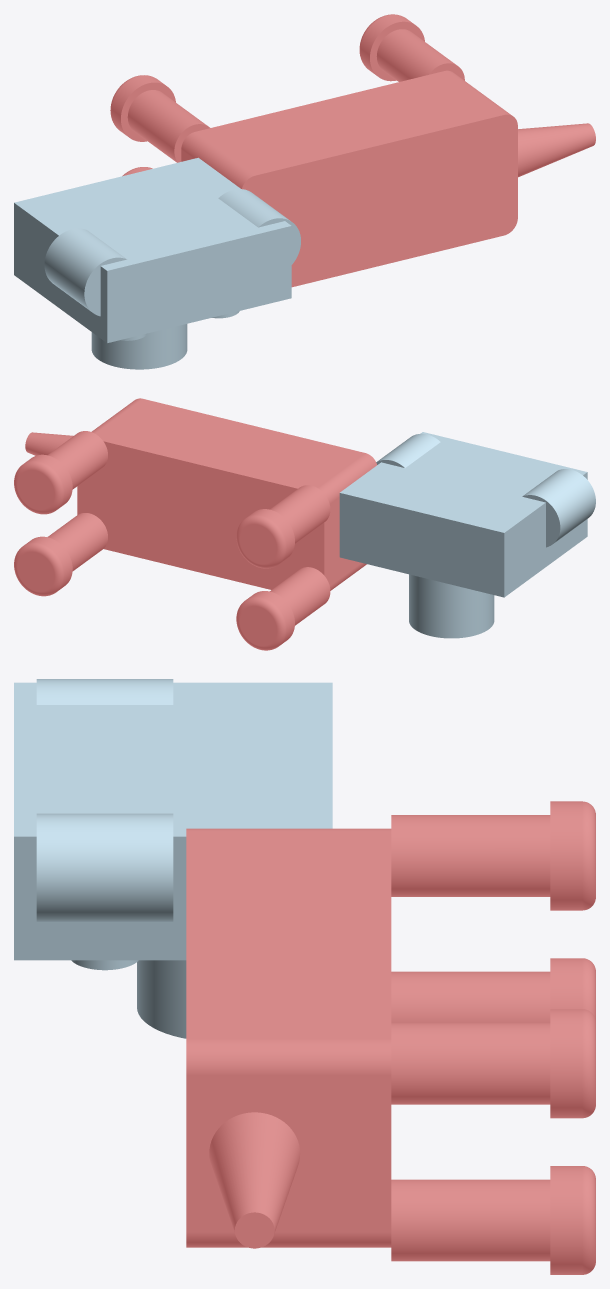
The model's file is JustinBach.gltf.
3 renders of one model, top to bottom at view 1: azimuth 30°, elevation 25°; view 2: azimuth 150°, elevation 25°; view 3: azimuth 270°, elevation 25°, orthographic. The views are drawn at different scales.
Parts seen in each view (by area): view 1: mesh9_mesh_8, mesh9_mesh_5, mesh22_mesh_16, mesh22_mesh_5, mesh22_mesh_12, mesh22_mesh_13, mesh43_mesh_1, mesh52_mesh_1, mesh22_mesh_2, mesh9_mesh_2, mesh9_mesh_6, mesh22_mesh_18 (+8 smaller); view 2: mesh9_mesh_9, mesh22_mesh_16, mesh9_mesh_5, mesh22_mesh_4, mesh22_mesh_12, mesh22_mesh_2, mesh22_mesh_13, mesh43_mesh_1, mesh61_mesh_1, mesh52_mesh_1, mesh0_mesh_1, mesh9_mesh_7 (+21 smaller); view 3: mesh9_mesh_5, mesh22_mesh_16, mesh9_mesh_3, mesh22_mesh_18, mesh22_mesh_17, mesh0_mesh_1, mesh43_mesh_1, mesh52_mesh_1, mesh61_mesh_1, mesh9_mesh_4, mesh9_mesh_2, mesh0_mesh_2 (+17 smaller).
Part boxes in pixels (x1,y1,x2,y2): mesh9_mesh_8: (242,114,517,287); mesh9_mesh_5: (195,71,503,175); mesh22_mesh_16: (14,157,291,270); mesh22_mesh_5: (107,226,291,342); mesh22_mesh_12: (14,203,107,342); mesh22_mesh_13: (44,228,126,311); mesh43_mesh_1: (127,90,207,150); mesh52_mesh_1: (377,29,455,79); mesh22_mesh_2: (91,329,163,369); mesh9_mesh_2: (518,123,595,164); mesh9_mesh_6: (181,132,254,188); mesh22_mesh_18: (218,189,289,227); mesh9_mesh_9: (77,441,324,589); mesh22_mesh_16: (340,432,586,532); mesh9_mesh_5: (95,399,364,488); mesh22_mesh_4: (339,493,504,597); mesh22_mesh_12: (504,472,587,597); mesh22_mesh_2: (430,579,494,638); mesh22_mesh_13: (522,469,595,543); mesh43_mesh_1: (270,485,330,535); mesh61_mesh_1: (270,567,330,617); mesh52_mesh_1: (48,431,107,481); mesh0_mesh_1: (47,513,107,563); mesh9_mesh_7: (324,497,360,585); mesh9_mesh_5: (186,831,391,1038); mesh22_mesh_16: (14,682,332,836); mesh9_mesh_3: (186,1075,391,1231); mesh22_mesh_18: (36,813,173,922); mesh22_mesh_17: (14,836,186,960); mesh0_mesh_1: (391,1179,550,1237); mesh43_mesh_1: (391,815,550,873); mesh52_mesh_1: (391,1022,550,1080); mesh61_mesh_1: (391,971,550,1022); mesh9_mesh_4: (186,1039,391,1075); mesh9_mesh_2: (209,1112,300,1229); mesh0_mesh_2: (391,1237,550,1261).
Size of the model in its own units: 0.247 by 0.0701 by 0.1279.
